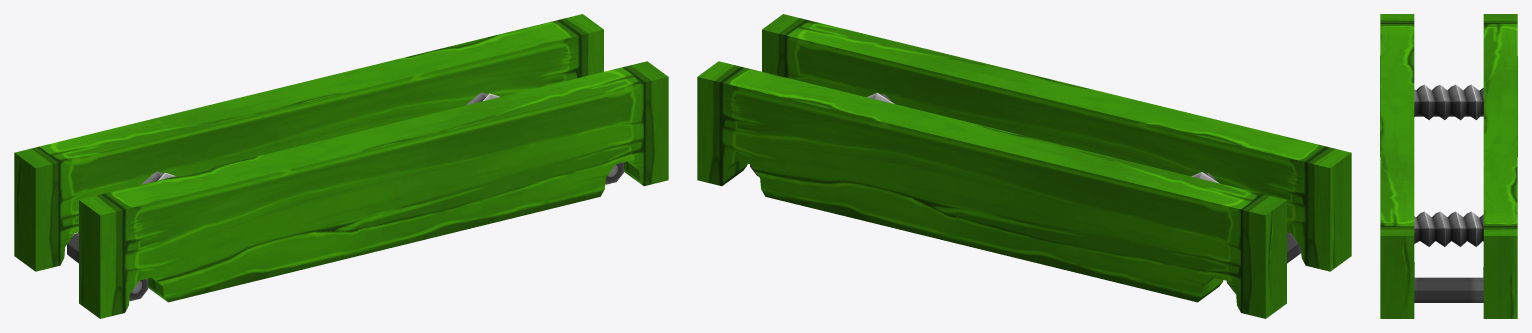
Rendered from dynamic_fence_green_03.fbx.
3 renders of one model, left to right at view 1: azimuth 30°, elevation 25°; view 2: azimuth 150°, elevation 25°; view 3: azimuth 270°, elevation 25°, orthographic. The views are drawn at different scales.
Visible parts, largest first — view 1: front_wall_10, back_wall_5; view 2: back_wall_5, front_wall_10; view 3: back_wall_5, front_wall_10, spring_13, spring_18.
Part boxes in pixels (x1,y1,x2,y2): front_wall_10: [79, 61, 668, 318]; back_wall_5: [14, 14, 623, 300]; back_wall_5: [697, 61, 1301, 318]; front_wall_10: [762, 14, 1351, 271]; back_wall_5: [1414, 14, 1517, 318]; front_wall_10: [1380, 14, 1414, 318]; spring_13: [1414, 211, 1483, 246]; spring_18: [1414, 84, 1483, 120].
Size of the model in its own units: 230 by 40 by 60.29.
